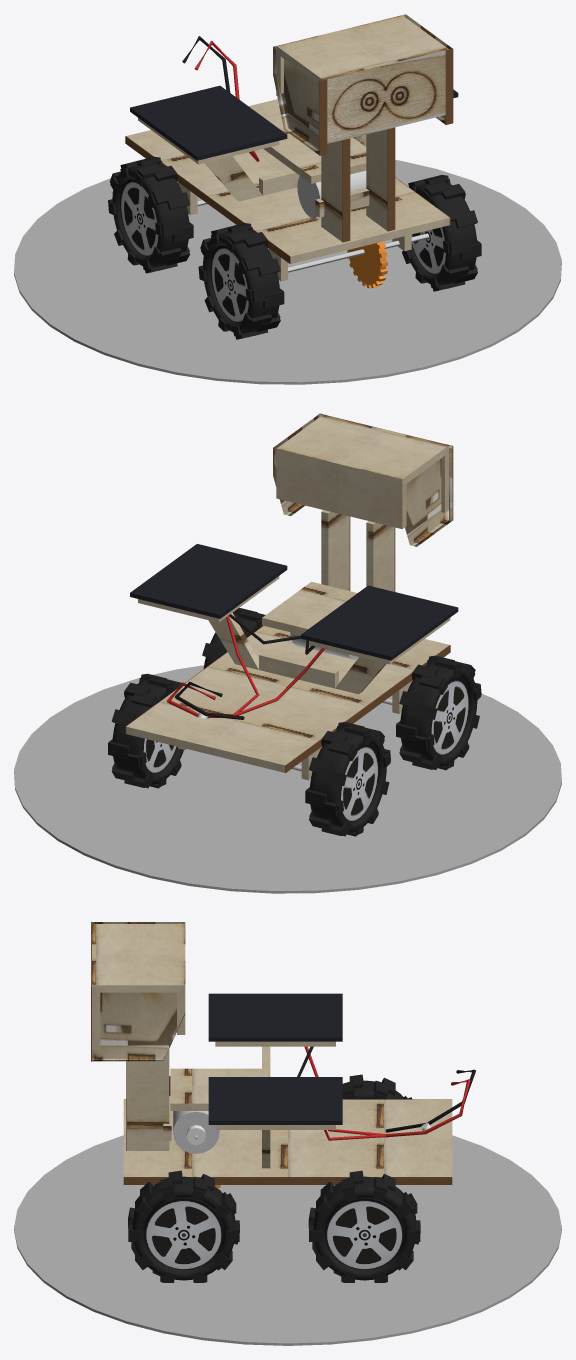
The model's file is carrito_solar.glb.
3 views of the same model, one above another, from view 1: azimuth 30°, elevation 25°; view 2: azimuth 150°, elevation 25°; view 3: azimuth 270°, elevation 25° (orthographic).
Parts seen in each view (by area): view 1: CS_Suelo, CS_Base, CS_Cabeza_Ojos, CS_Panel_-1, CS_Cabeza_Tapa, CS_Cabeza_Lateral_-1, CS_Neumatico_Tras_-1, CS_Neumatico_Del_-1, CS_Llanta_Del_-1_-1, CS_Llanta_Tras_-1_-1, CS_Bandeja, CS_Columna_1 (+17 smaller); view 2: CS_Suelo, CS_Base, CS_Cabeza_Tapa, CS_Panel_-1, CS_Panel_1, CS_Cabeza_Trasera, CS_Cabeza_Lateral_-1, CS_Bandeja, CS_Neumatico_Del_-1, CS_Neumatico_Tras_-1, CS_Columna_1, CS_Llanta_Del_-1_-1 (+12 smaller); view 3: CS_Suelo, CS_Base, CS_Panel_-1, CS_Panel_1, CS_Cabeza_Tapa, CS_Cabeza_Lateral_1, CS_Llanta_Tras_1_1, CS_Llanta_Del_1_1, CS_Columna_1, CS_Neumatico_Del_1, CS_Neumatico_Tras_1, CS_Bandeja (+6 smaller).
Part boxes in pixels (x1,y1,x2,y2): CS_Suelo: [14, 160, 561, 384]; CS_Base: [126, 99, 449, 263]; CS_Cabeza_Ojos: [324, 49, 448, 143]; CS_Panel_-1: [130, 85, 287, 160]; CS_Cabeza_Tapa: [276, 15, 447, 84]; CS_Cabeza_Lateral_-1: [273, 46, 319, 154]; CS_Neumatico_Tras_-1: [112, 163, 189, 267]; CS_Neumatico_Del_-1: [203, 229, 279, 333]; CS_Llanta_Del_-1_-1: [210, 245, 248, 322]; CS_Llanta_Tras_-1_-1: [120, 179, 158, 256]; CS_Bandeja: [263, 133, 366, 183]; CS_Columna_1: [366, 129, 387, 230]; CS_Suelo: [14, 665, 561, 893]; CS_Base: [126, 626, 449, 772]; CS_Cabeza_Tapa: [276, 415, 447, 486]; CS_Panel_-1: [301, 585, 458, 660]; CS_Panel_1: [130, 544, 287, 618]; CS_Cabeza_Trasera: [276, 446, 406, 529]; CS_Cabeza_Lateral_-1: [405, 445, 452, 546]; CS_Bandeja: [262, 582, 357, 634]; CS_Neumatico_Del_-1: [400, 662, 477, 766]; CS_Neumatico_Tras_-1: [310, 728, 386, 832]; CS_Columna_1: [321, 510, 349, 590]; CS_Llanta_Del_-1_-1: [431, 678, 469, 755]; CS_Suelo: [14, 1135, 561, 1345]; CS_Base: [123, 1099, 452, 1176]; CS_Panel_-1: [208, 993, 342, 1041]; CS_Panel_1: [208, 1077, 342, 1124]; CS_Cabeza_Tapa: [92, 924, 185, 992]; CS_Cabeza_Lateral_1: [92, 992, 185, 1061]; CS_Llanta_Tras_1_1: [325, 1198, 404, 1269]; CS_Llanta_Del_1_1: [144, 1198, 223, 1269]; CS_Columna_1: [127, 1049, 169, 1150]; CS_Neumatico_Del_1: [132, 1176, 235, 1280]; CS_Neumatico_Tras_1: [313, 1176, 416, 1280]; CS_Bandeja: [170, 1068, 268, 1110].
Bounding box in the file's own units: 2 × 1.11 × 2.
242 materials, 28 textured.
